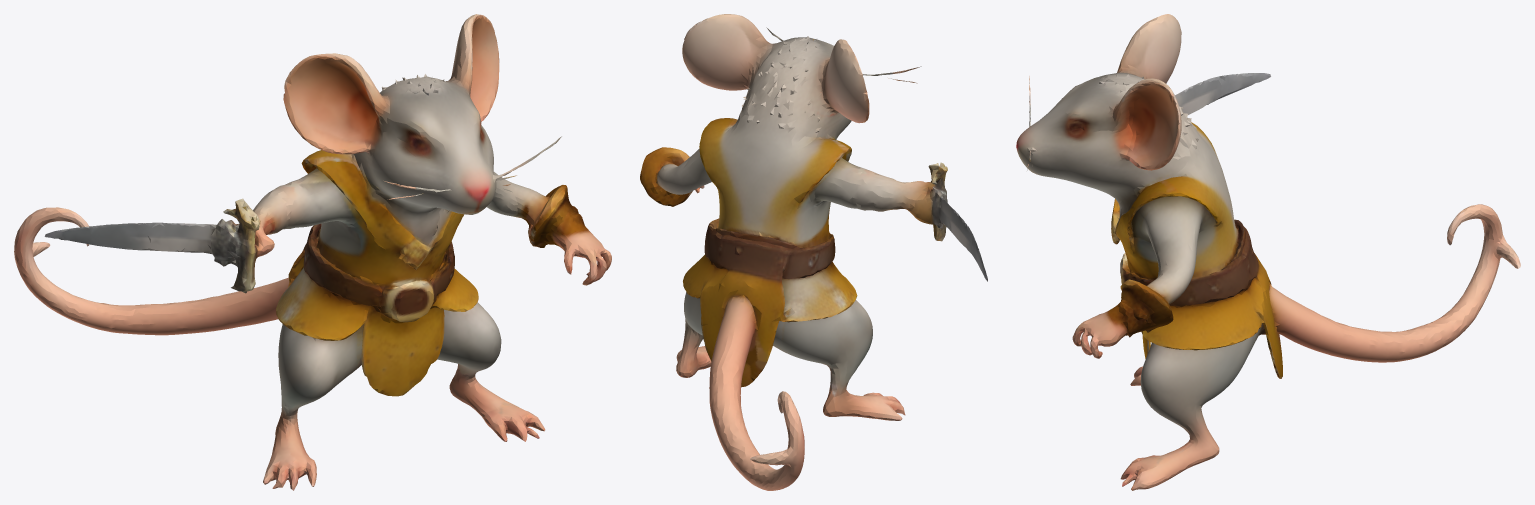
3 renders of one model, left to right at view 1: azimuth 30°, elevation 25°; view 2: azimuth 150°, elevation 25°; view 3: azimuth 270°, elevation 25°, orthographic. The views are drawn at different scales.
Parts seen in each view (by area): view 1: RapidStrike; view 2: RapidStrike; view 3: RapidStrike.
Part boxes in pixels (bbox=[...]): RapidStrike: bbox=[14, 14, 611, 490]; RapidStrike: bbox=[640, 14, 987, 490]; RapidStrike: bbox=[1016, 14, 1520, 490].
Size of the model in its own units: 1.76 by 1.5 by 1.78.
1 material, 1 textured.
